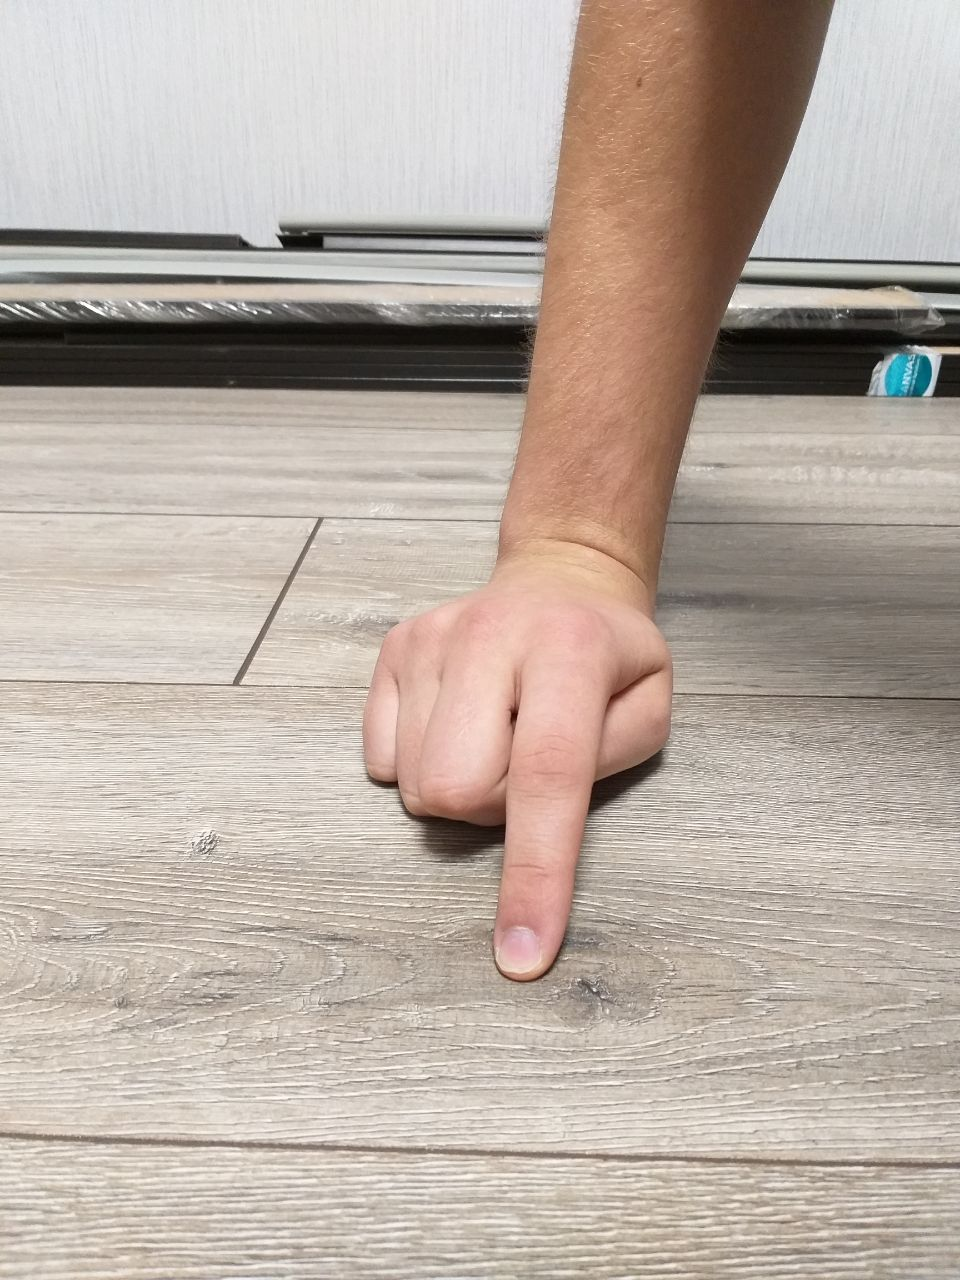finger: (494, 894, 559, 980)
